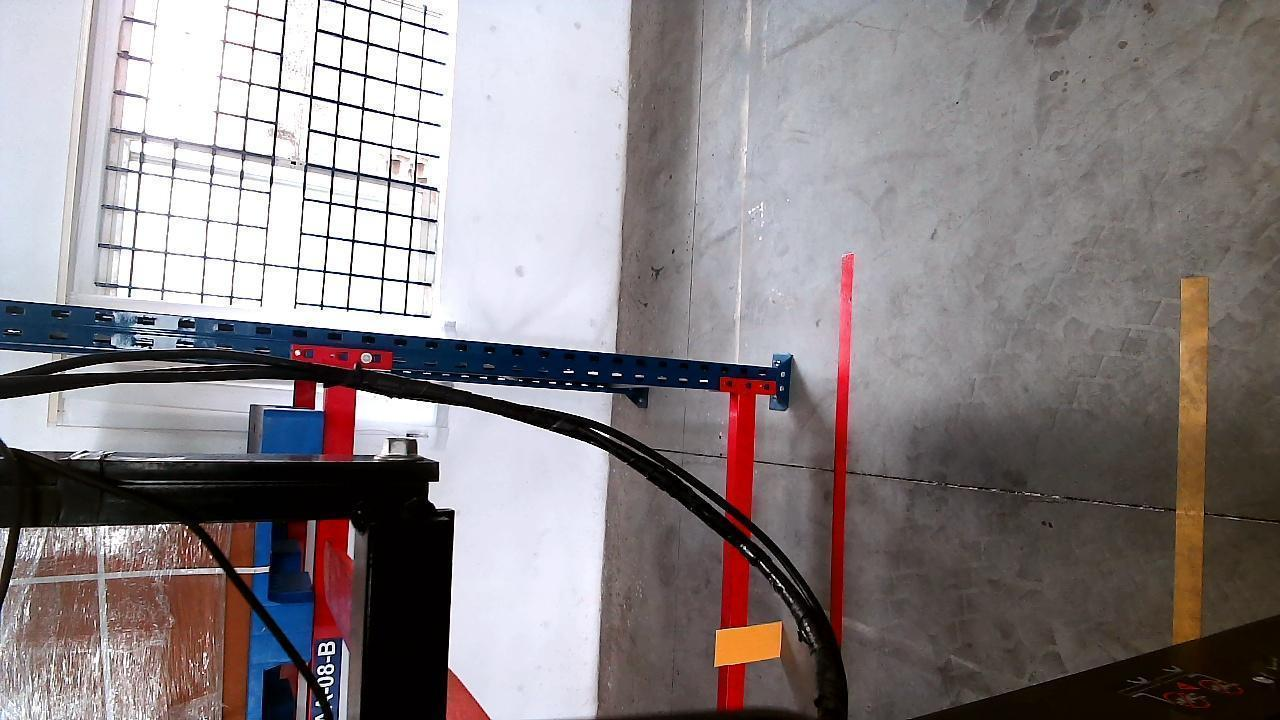red_line: (829, 253, 854, 649)
yellow_line: (1174, 276, 1210, 636)
